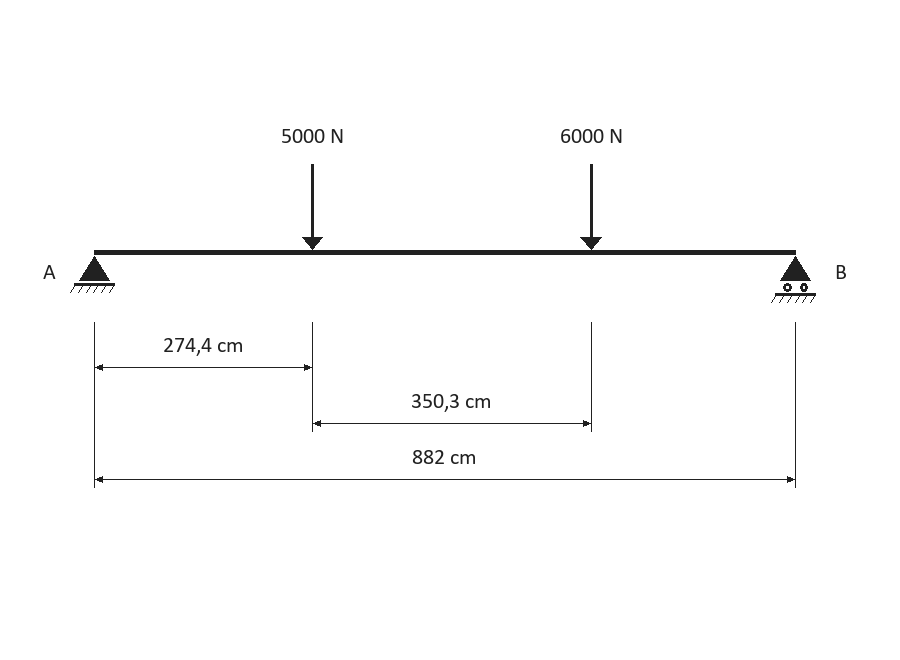pin_support: (70, 256, 115, 293)
point_load: (580, 164, 602, 250), (302, 164, 323, 250)
roller_support: (771, 256, 816, 303)
